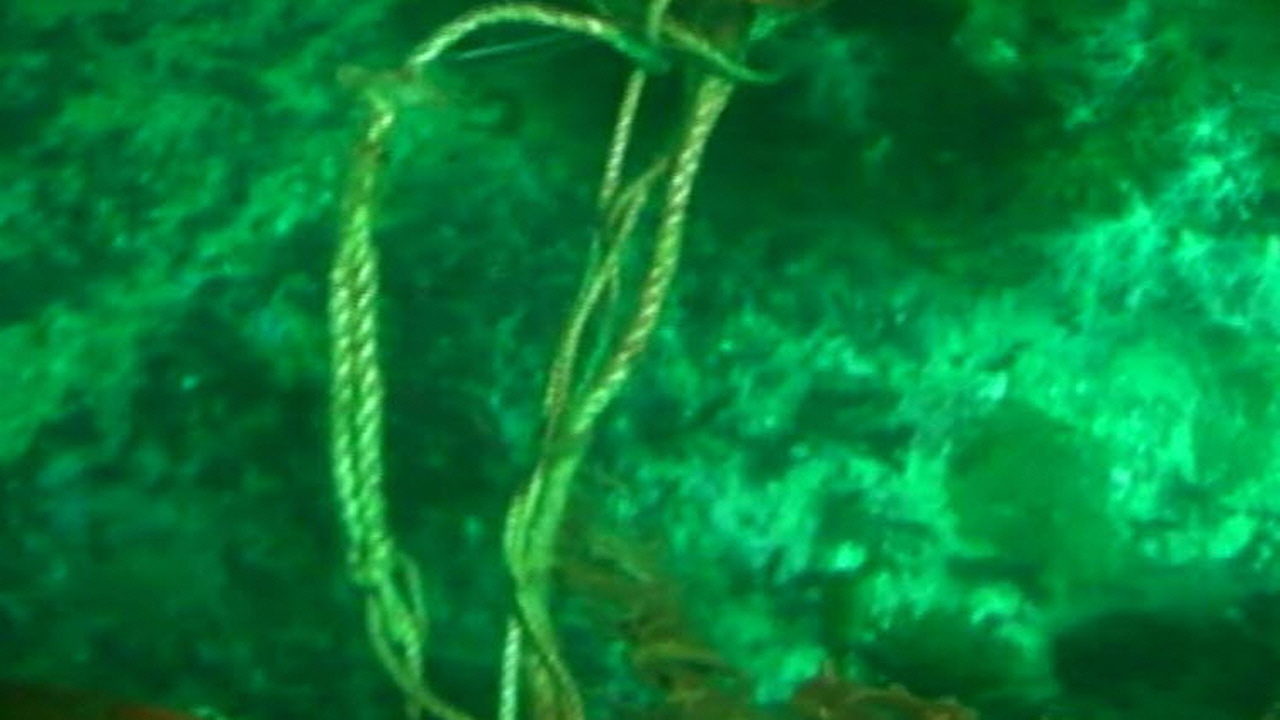bundle of ropes: (326, 0, 778, 720)
